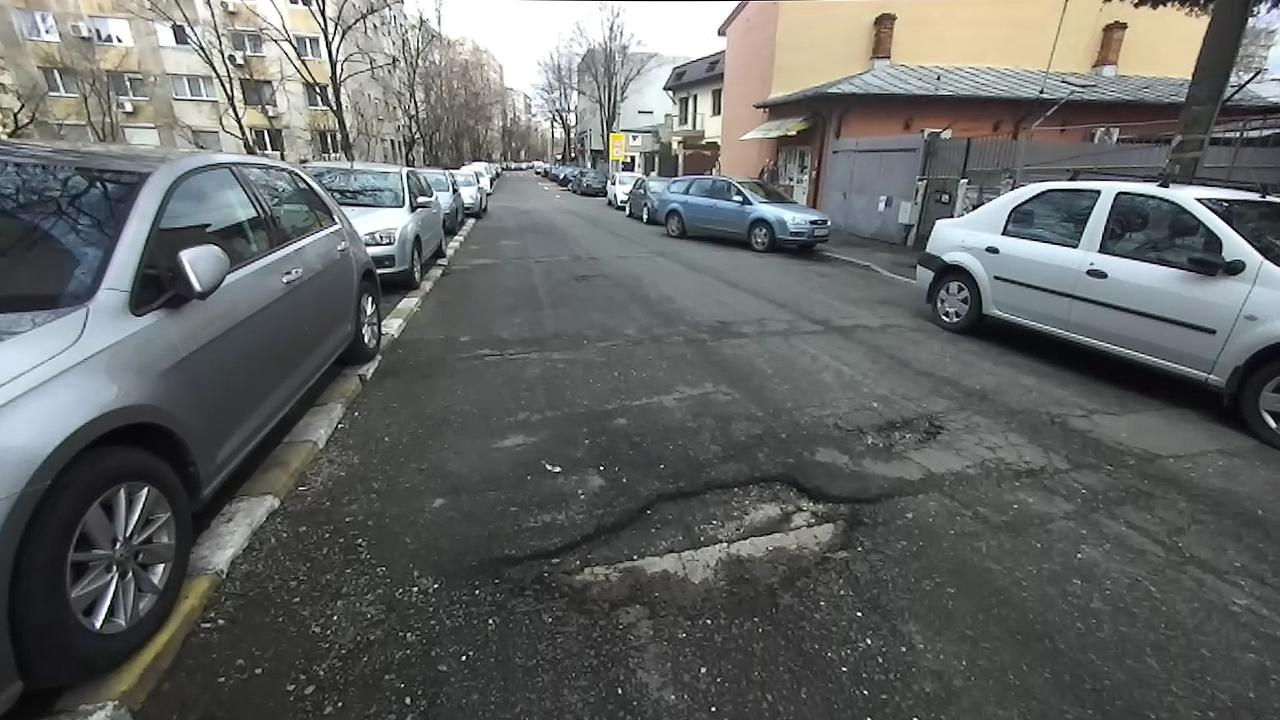pothole: (465, 469, 897, 620), (834, 406, 955, 456), (465, 342, 546, 366)
